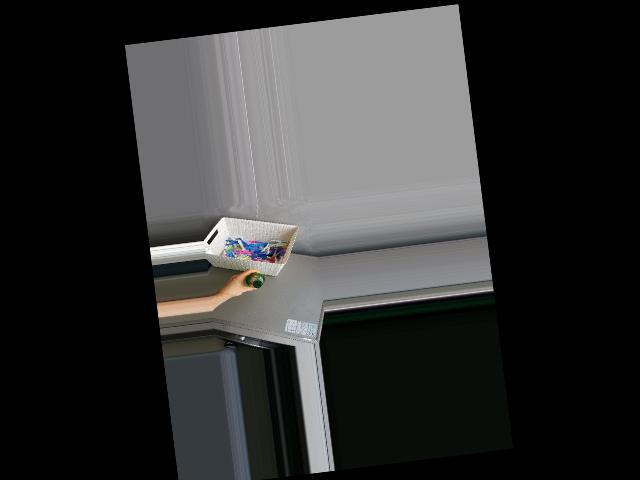beer: (244, 271, 266, 290)
